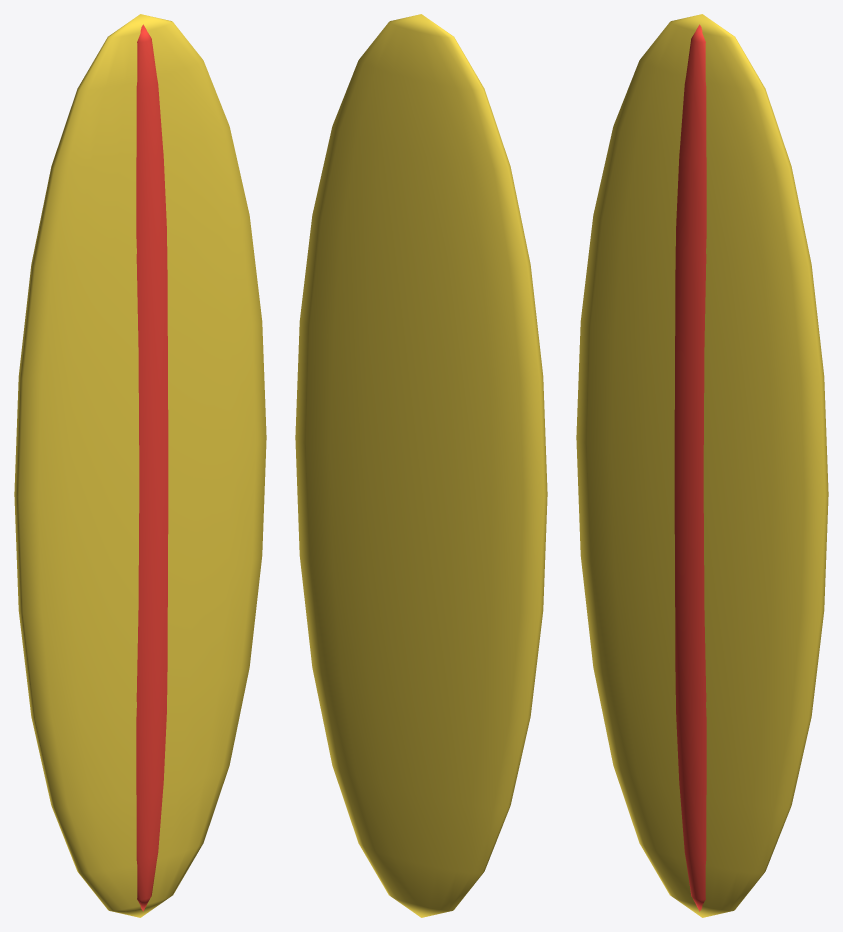
File: surfboard.glb
3 renders of one model, left to right at view 1: azimuth 30°, elevation 25°; view 2: azimuth 150°, elevation 25°; view 3: azimuth 330°, elevation 25°, orthographic.
Parts seen in each view (by area): view 1: Surfboard; view 2: Surfboard; view 3: Surfboard.
Part boxes in pixels (x1,y1,x2,y2): Surfboard: (14,14,266,917); Surfboard: (295,14,547,917); Surfboard: (576,14,828,917).
Bounding box in the file's own units: 0.6303 × 2.2 × 0.127.
